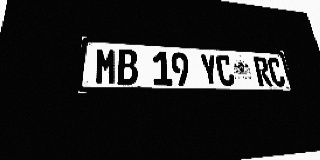1: (152, 51, 173, 86)
9: (170, 52, 191, 86)
B: (117, 49, 138, 85)
C: (215, 54, 236, 86), (266, 57, 286, 87)
M: (95, 48, 117, 85)
R: (253, 57, 273, 87)
Y: (199, 54, 220, 86)
